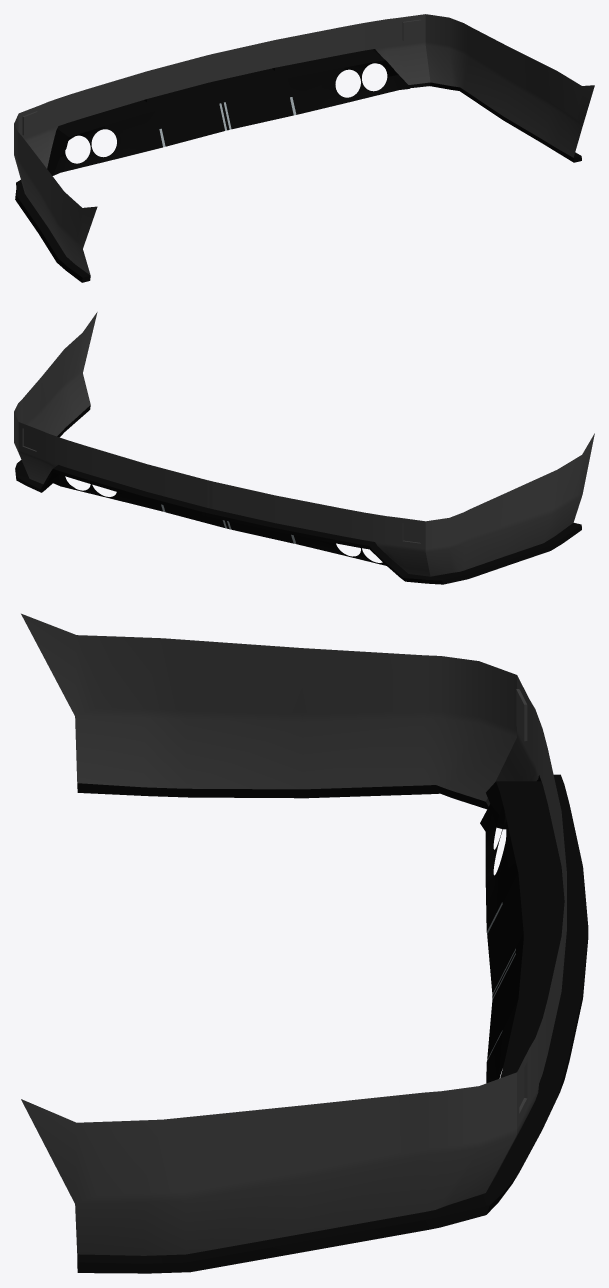
The model's file is RearBumperBMW.fbx.
3 views of the same model, one above another, from view 1: azimuth 30°, elevation 25°; view 2: azimuth 150°, elevation 25°; view 3: azimuth 270°, elevation 25° (orthographic). The views are drawn at different scales.
Visible parts, largest first — view 1: CarColorObject.018, CarColorObject.024, CarColorObject.025; view 2: CarColorObject.018, CarColorObject.025, CarColorObject.024; view 3: CarColorObject.018, CarColorObject.025, CarColorObject.024.
Part boxes in pixels (bbox=[...]): CarColorObject.018: bbox=[14, 14, 594, 275]; CarColorObject.024: bbox=[53, 60, 409, 175]; CarColorObject.025: bbox=[15, 49, 581, 282]; CarColorObject.018: bbox=[14, 312, 594, 576]; CarColorObject.025: bbox=[15, 405, 581, 584]; CarColorObject.024: bbox=[53, 474, 386, 565]; CarColorObject.018: bbox=[21, 613, 566, 1255]; CarColorObject.025: bbox=[77, 774, 588, 1273]; CarColorObject.024: bbox=[480, 782, 523, 1083].
Bounding box in the file's own units: 186 × 31.05 × 91.38.
